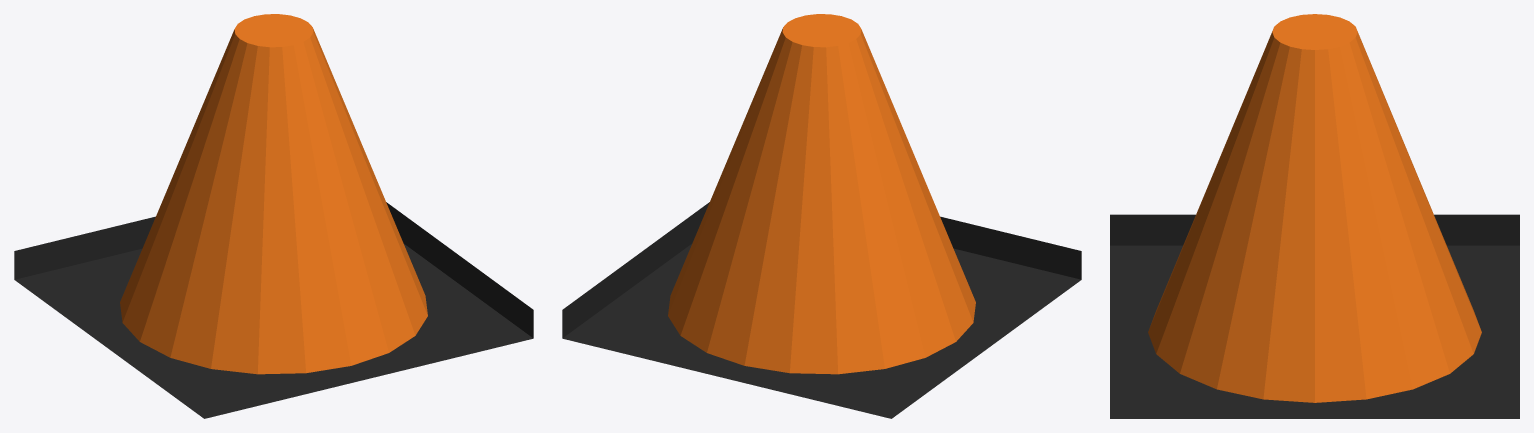
Rendered from construction_cone.dae.
3 renders of one model, left to right at view 1: azimuth 30°, elevation 25°; view 2: azimuth 150°, elevation 25°; view 3: azimuth 270°, elevation 25°, orthographic. The views are drawn at different scales.
Visible parts, largest first — view 1: cone, base_ring; view 2: cone, base_ring; view 3: cone, base_ring.
Part boxes in pixels (box(x1,y1,x2,y2)): cone: box(120, 14, 427, 374); base_ring: box(14, 202, 533, 418); cone: box(668, 14, 975, 374); base_ring: box(562, 202, 1081, 418); cone: box(1148, 14, 1481, 402); base_ring: box(1110, 214, 1519, 418).
Bounding box in the file's own units: 0.108 × 0.108 × 0.09.
